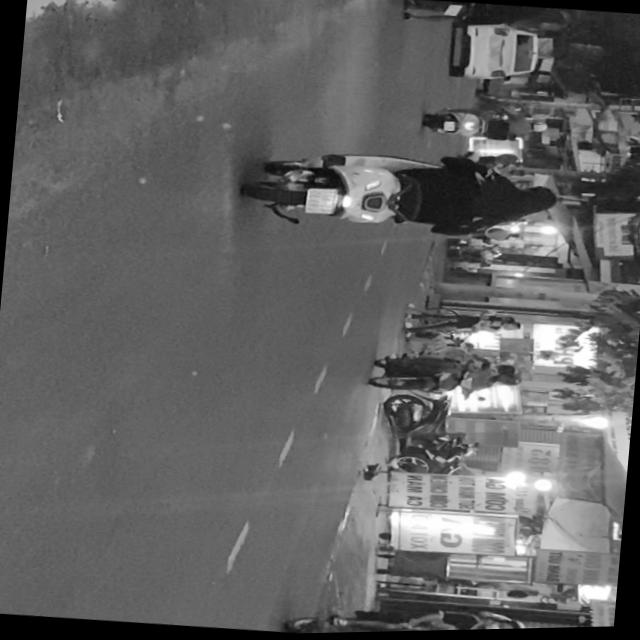helmet: (493, 373, 523, 390)
licenseplate: (236, 136, 580, 253), (368, 347, 528, 406)
motorcyclist: (466, 176, 564, 226)
nohelmet: (306, 187, 338, 216)
